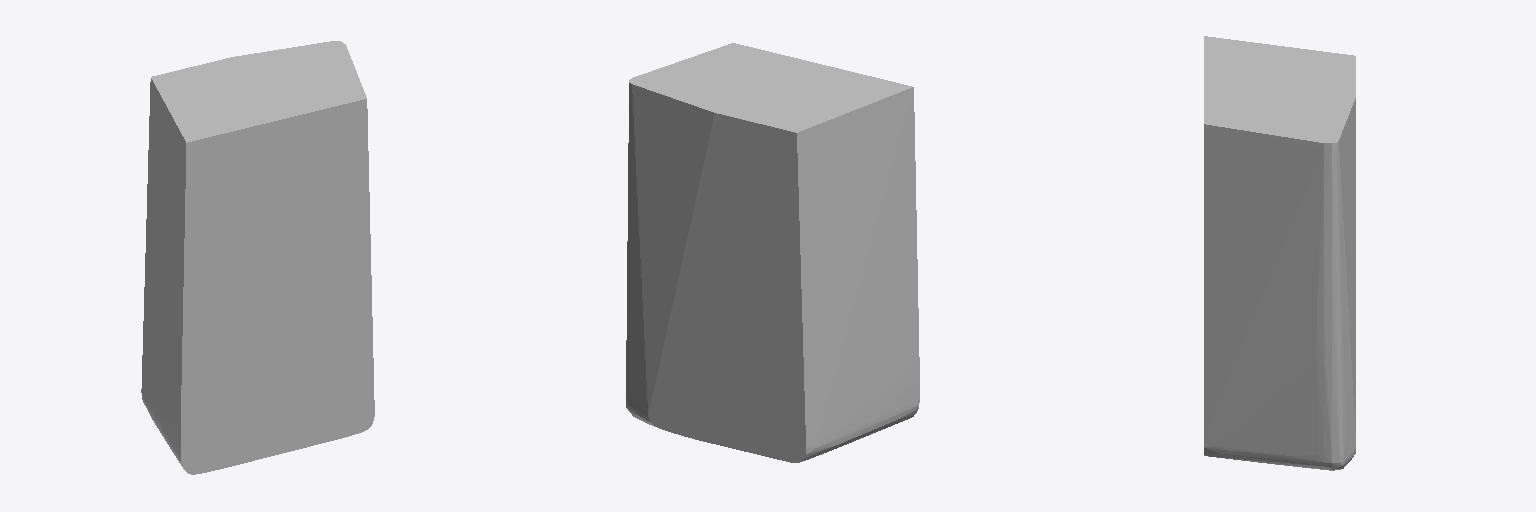
Rendered from box_long_brown_M_collision_2.obj.
3 renders of one model, left to right at view 1: azimuth 30°, elevation 25°; view 2: azimuth 150°, elevation 25°; view 3: azimuth 270°, elevation 25°, orthographic.
Bounding box in the file's own units: 0.0452 × 0.0637 × 0.0264.